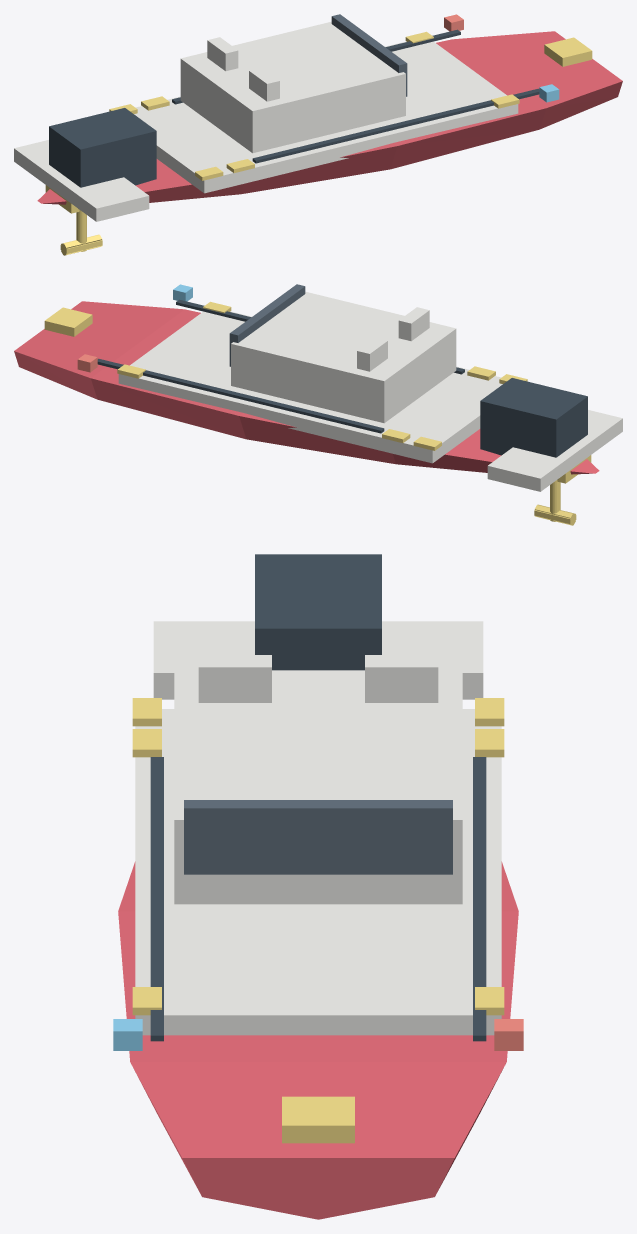
File: riptide_xr_race.glb
3 views of the same model, one above another, from view 1: azimuth 30°, elevation 25°; view 2: azimuth 150°, elevation 25°; view 3: azimuth 270°, elevation 25° (orthographic). The views are drawn at different scales.
Visible parts, largest first — view 1: 02_Sculpted_cockpit_pod, 00_Sculpted_V_planing_hull, 01_Upper_deck, 17_High_performance_engine_cowl, 26_Stern_swim_platform, 10_Racing_pinstripe, 03_Tinted_panoramic_windshield, 23_Bow_cleat, 05_Seat_back, 07_Seat_back, 09_Racing_pinstripe, 19_Drive_shaft; view 2: 02_Sculpted_cockpit_pod, 00_Sculpted_V_planing_hull, 01_Upper_deck, 17_High_performance_engine_cowl, 26_Stern_swim_platform, 09_Racing_pinstripe, 03_Tinted_panoramic_windshield, 23_Bow_cleat, 07_Seat_back, 05_Seat_back, 10_Racing_pinstripe, 19_Drive_shaft; view 3: 00_Sculpted_V_planing_hull, 01_Upper_deck, 02_Sculpted_cockpit_pod, 03_Tinted_panoramic_windshield, 17_High_performance_engine_cowl, 26_Stern_swim_platform, 09_Racing_pinstripe, 10_Racing_pinstripe, 05_Seat_back, 07_Seat_back, 23_Bow_cleat, 24_Navigation_light (+1 smaller).
Boxes of the visible parts, <box> form: 02_Sculpted_cockpit_pod: <box>180,21,405,153</box>; 00_Sculpted_V_planing_hull: <box>37,31,622,204</box>; 01_Upper_deck: <box>134,41,518,193</box>; 17_High_performance_engine_cowl: <box>49,108,156,187</box>; 26_Stern_swim_platform: <box>14,140,149,221</box>; 10_Racing_pinstripe: <box>252,88,539,163</box>; 03_Tinted_panoramic_windshield: <box>331,14,407,96</box>; 23_Bow_cleat: <box>544,37,592,66</box>; 05_Seat_back: <box>207,37,238,71</box>; 07_Seat_back: <box>249,67,279,101</box>; 09_Racing_pinstripe: <box>172,29,460,104</box>; 19_Drive_shaft: <box>76,210,86,251</box>; 02_Sculpted_cockpit_pod: <box>231,291,456,423</box>; 00_Sculpted_V_planing_hull: <box>14,301,599,474</box>; 01_Upper_deck: <box>118,311,502,463</box>; 17_High_performance_engine_cowl: <box>480,378,587,457</box>; 26_Stern_swim_platform: <box>487,410,622,491</box>; 09_Racing_pinstripe: <box>97,358,384,433</box>; 03_Tinted_panoramic_windshield: <box>229,284,305,366</box>; 23_Bow_cleat: <box>44,307,92,336</box>; 07_Seat_back: <box>398,307,429,341</box>; 05_Seat_back: <box>357,337,387,371</box>; 10_Racing_pinstripe: <box>176,299,464,374</box>; 19_Drive_shaft: <box>550,480,560,521</box>; 00_Sculpted_V_planing_hull: <box>118,861,518,1219</box>; 01_Upper_deck: <box>135,709,501,1035</box>; 02_Sculpted_cockpit_pod: <box>174,670,462,904</box>; 03_Tinted_panoramic_windshield: <box>184,800,452,874</box>; 17_High_performance_engine_cowl: <box>255,554,381,670</box>; 26_Stern_swim_platform: <box>153,621,483,699</box>; 09_Racing_pinstripe: <box>473,757,486,1041</box>; 10_Racing_pinstripe: <box>150,757,163,1041</box>; 05_Seat_back: <box>365,655,438,702</box>; 07_Seat_back: <box>198,655,271,702</box>; 23_Bow_cleat: <box>282,1096,354,1143</box>; 24_Navigation_light: <box>494,1019,523,1050</box>.
Size of the model in its own units: 5.19 by 1.36 by 1.68.
